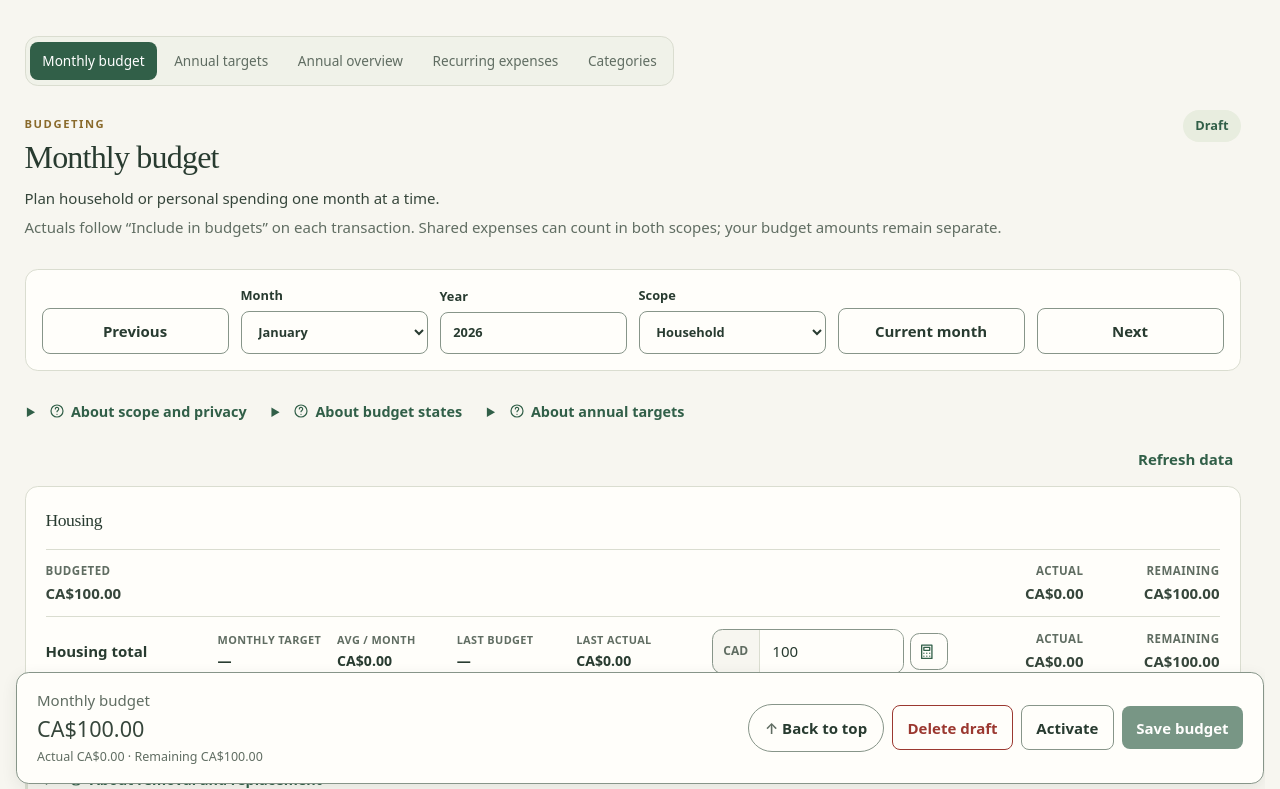
monthly budget fixed-action spacing › removes the reserved height when switching to a month with no budget
This screenshot has width=1280, height=789.
(page scrolled)
Expected: the element named "Budget actions" is shown, [16, 672, 1264, 784]
Click the button "Next" at (1130, 331), box [1036, 308, 1224, 354]
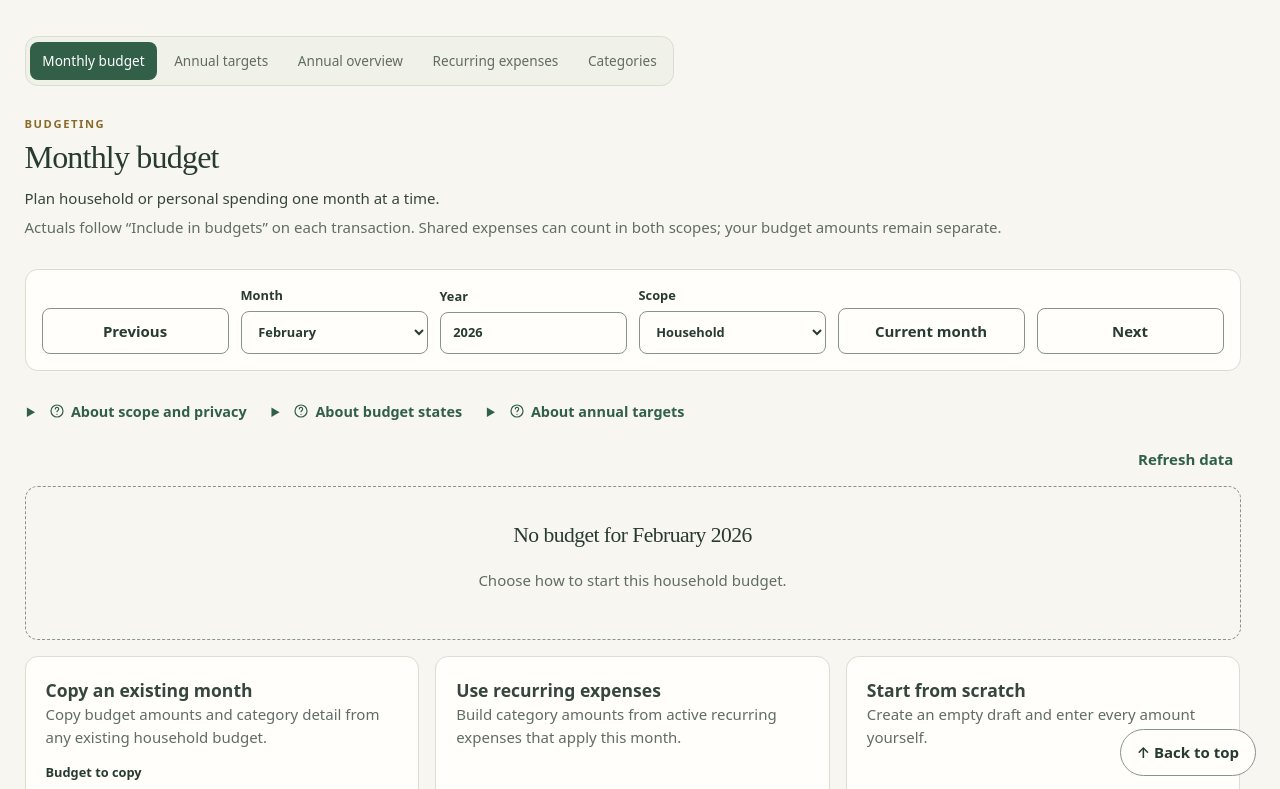
Result: the heading "No budget for February 2026" is shown at [513, 523, 752, 547]
